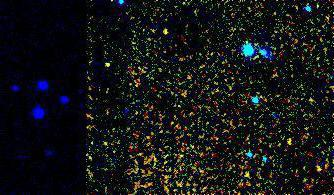star: (88, 45, 118, 75)
